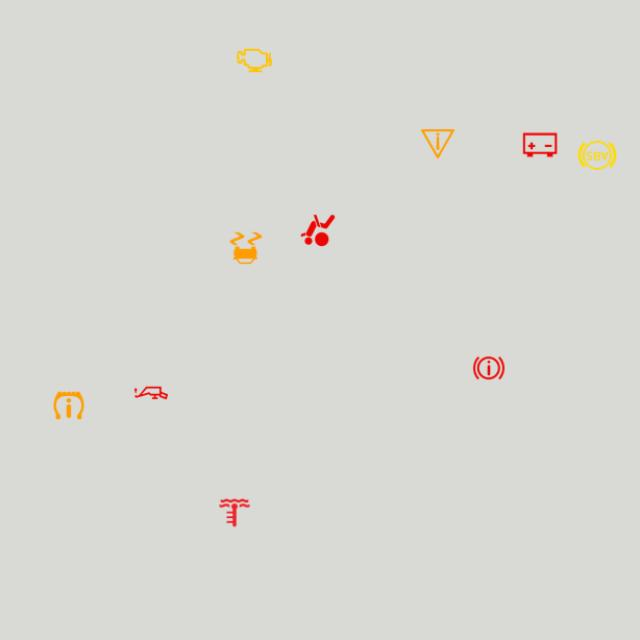Anti Lock Braking System: (576, 134, 618, 177)
Braking System Issue: (468, 347, 510, 389)
Charging System Issue: (519, 124, 561, 166)
Check Engine: (233, 40, 276, 82)
Electronic Stability Problem -ESP-: (225, 227, 267, 269)
Engine Overheating Warning Light: (213, 492, 256, 534)
Low Engine Oil Warning Light: (130, 372, 172, 414)
Low Tire Pressure Warning Light: (48, 384, 90, 426)
Master warning light: (417, 123, 459, 165)
SRS-Airbag: (297, 210, 339, 252)
